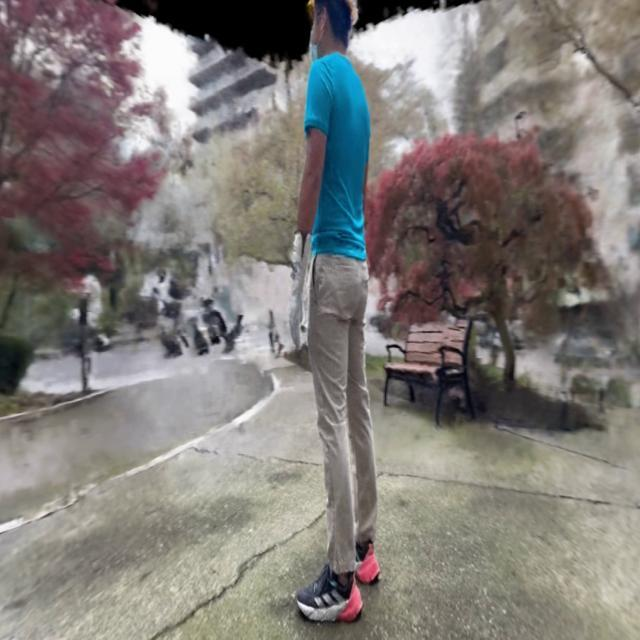gloves: (288, 225, 310, 351)
